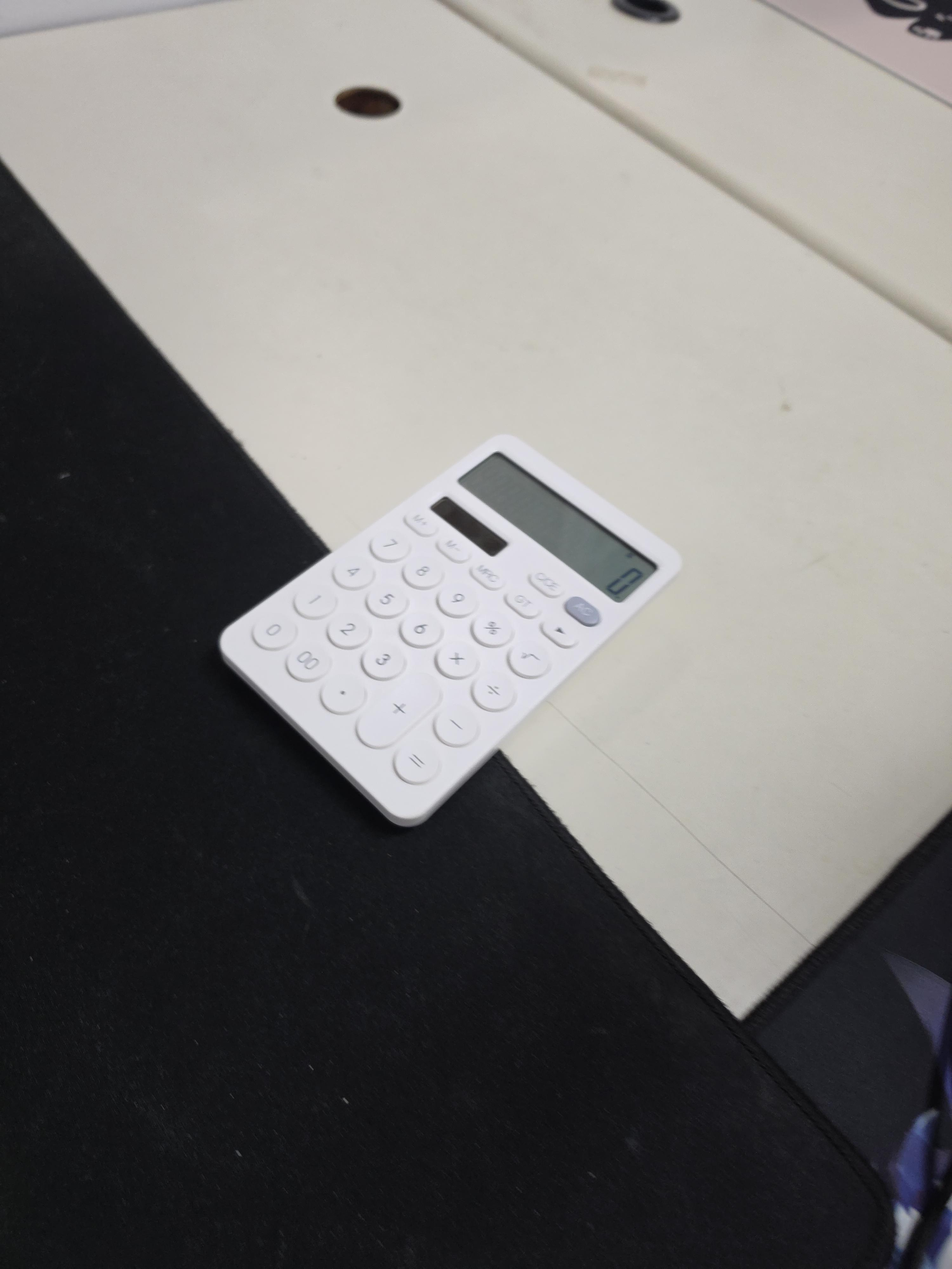calculator: (218, 433, 684, 830)
